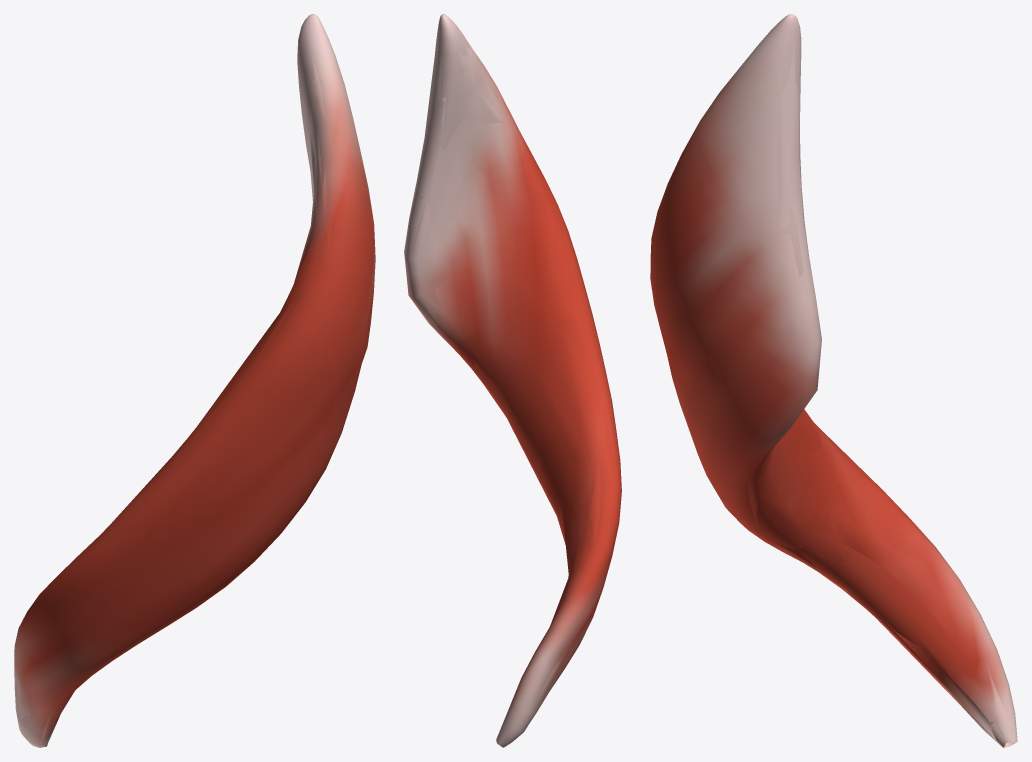
The model's file is L Extensor carpi ulnaris.fbx.
3 renders of one model, left to right at view 1: azimuth 30°, elevation 25°; view 2: azimuth 150°, elevation 25°; view 3: azimuth 270°, elevation 25°, orthographic. The views are drawn at different scales.
Visible parts, largest first — view 1: L Extensor carpi ulnaris, L Extensor carpi ulnaris low; view 2: L Extensor carpi ulnaris low, L Extensor carpi ulnaris; view 3: L Extensor carpi ulnaris, L Extensor carpi ulnaris low.
Boxes of the visible parts, left/top/right/bottom form: L Extensor carpi ulnaris: left=14, top=14, right=375, bottom=747; L Extensor carpi ulnaris low: left=18, top=46, right=366, bottom=746; L Extensor carpi ulnaris low: left=405, top=32, right=616, bottom=747; L Extensor carpi ulnaris: left=404, top=14, right=621, bottom=747; L Extensor carpi ulnaris: left=650, top=14, right=1017, bottom=747; L Extensor carpi ulnaris low: left=651, top=36, right=1014, bottom=747.
Bounding box in the file's own units: 7.96 × 20.84 × 8.43.
